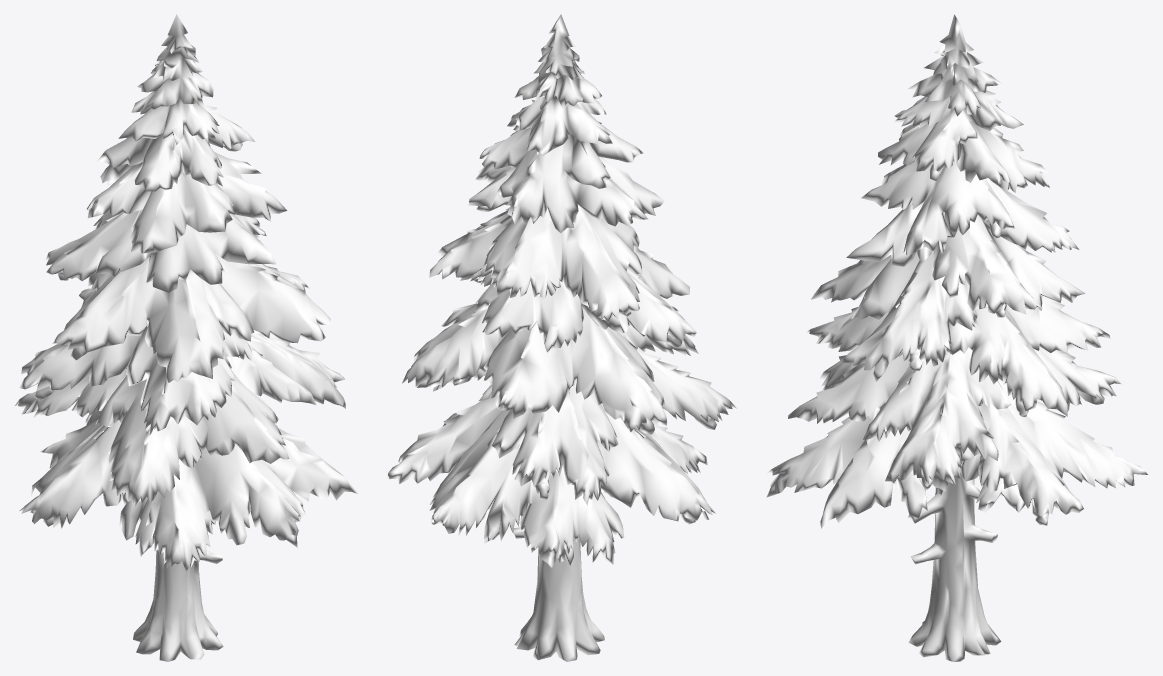
The model's file is tree_pine.glb.
The picture shows the model from 3 angles, left to right: view 1: azimuth 30°, elevation 25°; view 2: azimuth 150°, elevation 25°; view 3: azimuth 270°, elevation 25°; orthographic projection.
Visible parts, largest first — view 1: lod0; view 2: lod0; view 3: lod0.
Boxes of the visible parts, x1,y1,x2,y2 form: lod0: (15, 14, 357, 661); lod0: (387, 14, 737, 661); lod0: (766, 14, 1147, 661).
Size of what is drawn, in the model's own units: 6.21 by 12 by 6.61.
1 material, 1 textured.
